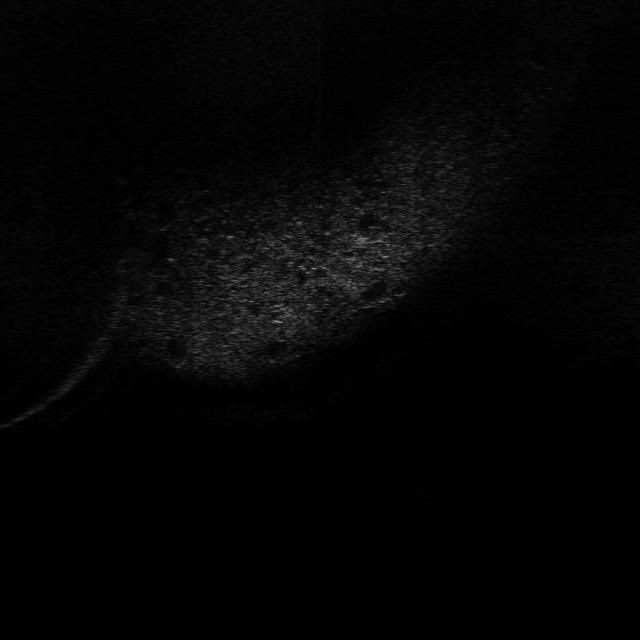cube: (384, 473, 442, 503)
